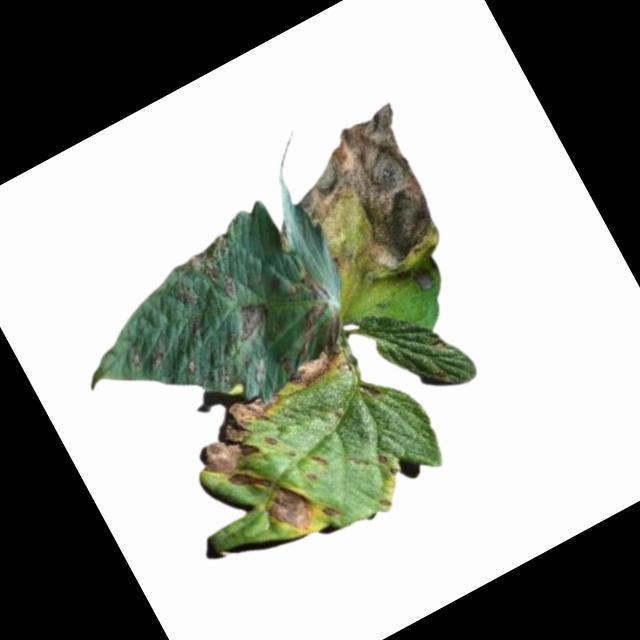Early_blight: (274, 97, 463, 299), (181, 381, 304, 485), (272, 264, 351, 356), (257, 475, 324, 544), (180, 229, 246, 292), (288, 343, 346, 389), (227, 300, 276, 345), (226, 460, 273, 503), (408, 263, 438, 294), (143, 345, 171, 371), (358, 376, 384, 403), (317, 499, 341, 523), (220, 275, 243, 300)
